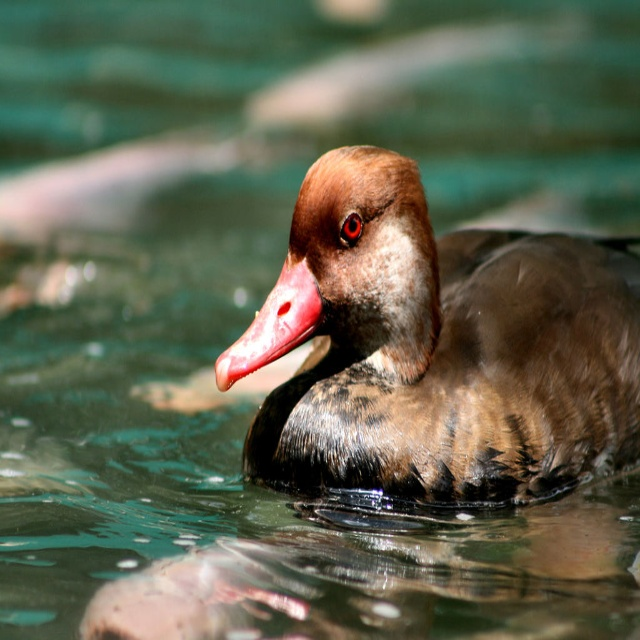Duck: (204, 149, 640, 518)
